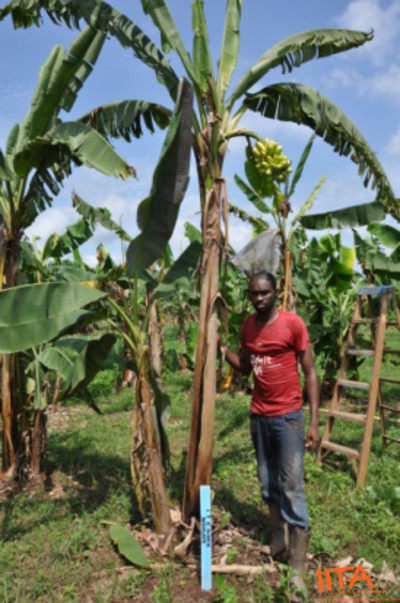bananaHand: (250, 138, 294, 181)
